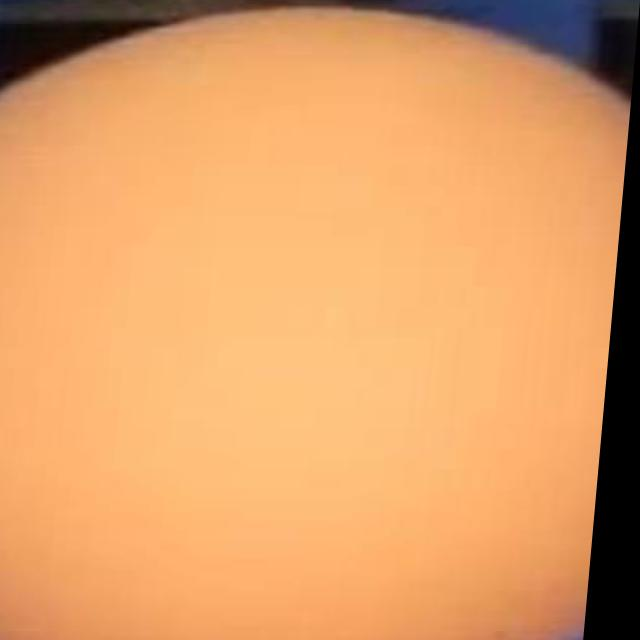fresh: (0, 10, 639, 640)
